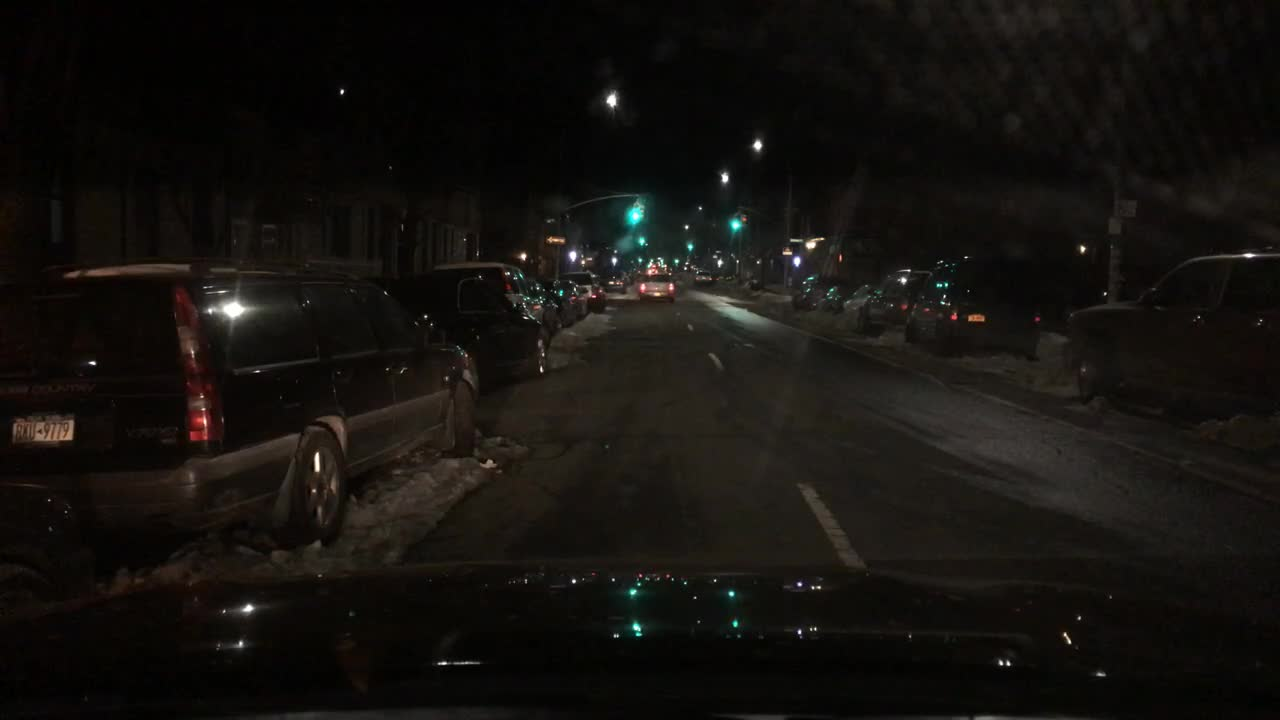car: (1, 260, 483, 577), (1061, 248, 1278, 424), (389, 255, 547, 376), (904, 254, 1043, 357), (857, 266, 930, 333), (514, 265, 561, 327), (556, 268, 607, 315), (529, 273, 573, 321), (785, 266, 832, 308), (815, 277, 863, 313), (846, 279, 885, 321), (561, 277, 592, 315), (636, 271, 676, 299), (735, 266, 763, 291), (724, 262, 748, 283), (604, 271, 628, 290), (693, 268, 714, 282)
traffic light: (629, 196, 639, 224), (729, 209, 739, 232), (639, 193, 645, 227), (740, 209, 749, 230), (632, 234, 645, 246), (685, 237, 695, 249)
traffic sign: (1116, 197, 1139, 213), (544, 233, 565, 245)
